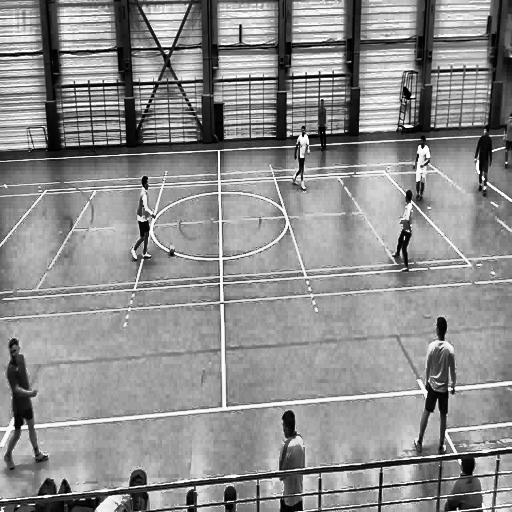ball: (168, 243, 176, 258)
player: (2, 339, 52, 474), (412, 313, 458, 455), (275, 408, 307, 512), (131, 175, 159, 264), (392, 190, 414, 274), (473, 123, 494, 200), (412, 133, 431, 206), (292, 125, 311, 193), (317, 97, 329, 155), (502, 110, 512, 172)
